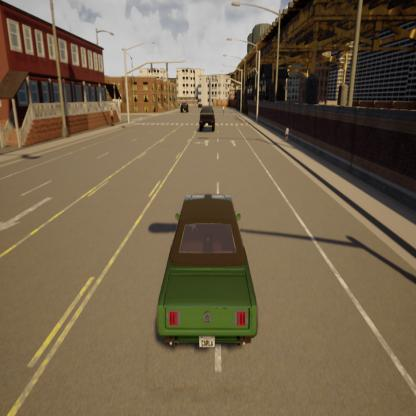Cars: (148, 165, 267, 378), (196, 90, 217, 147), (171, 80, 189, 132)
